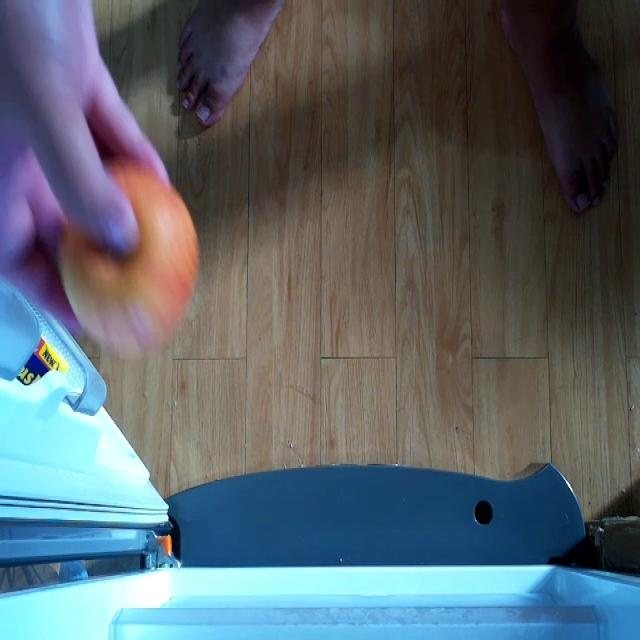apple: (58, 171, 205, 360)
